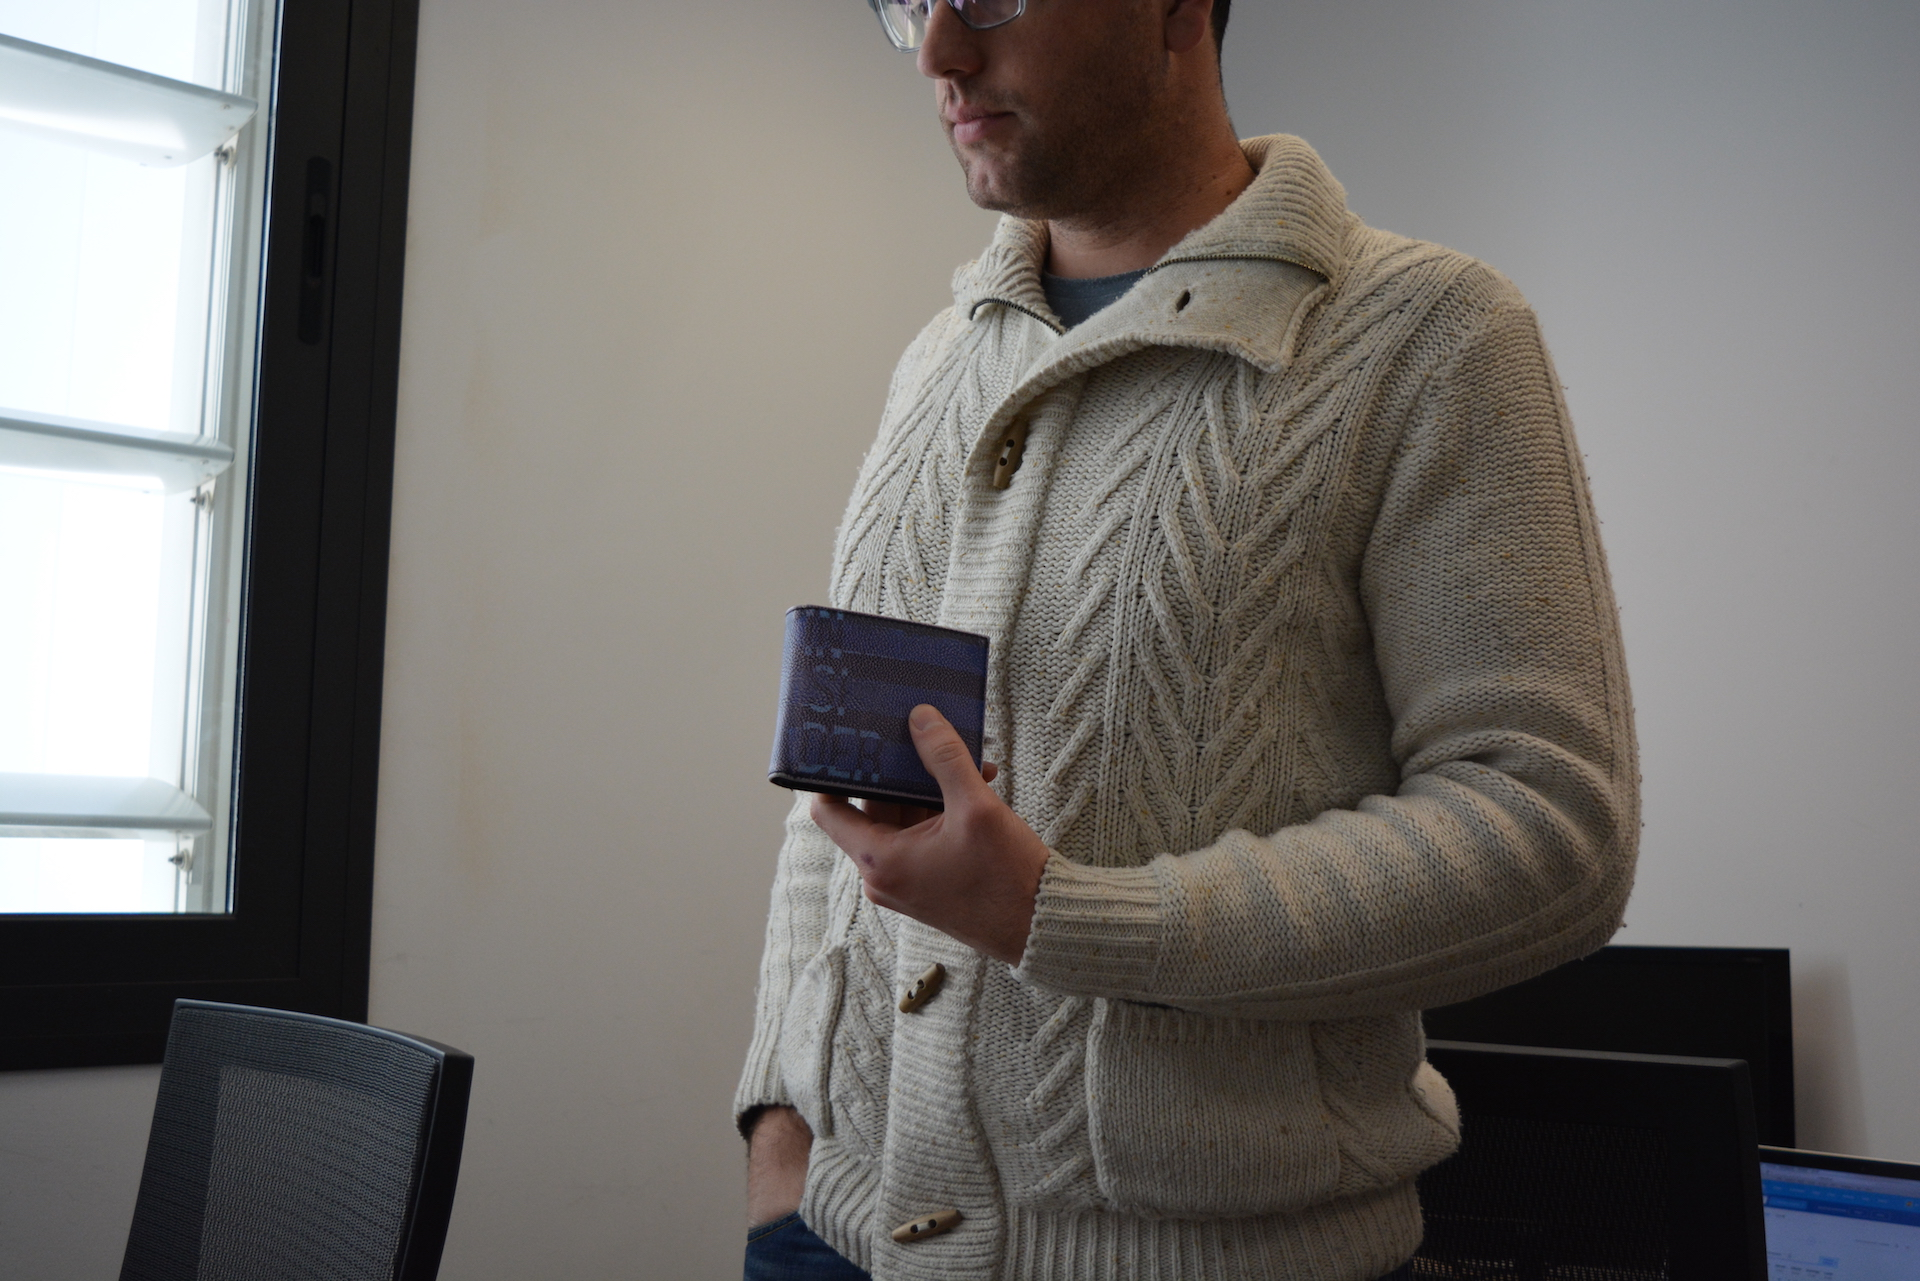monedero: (763, 602, 994, 813)
